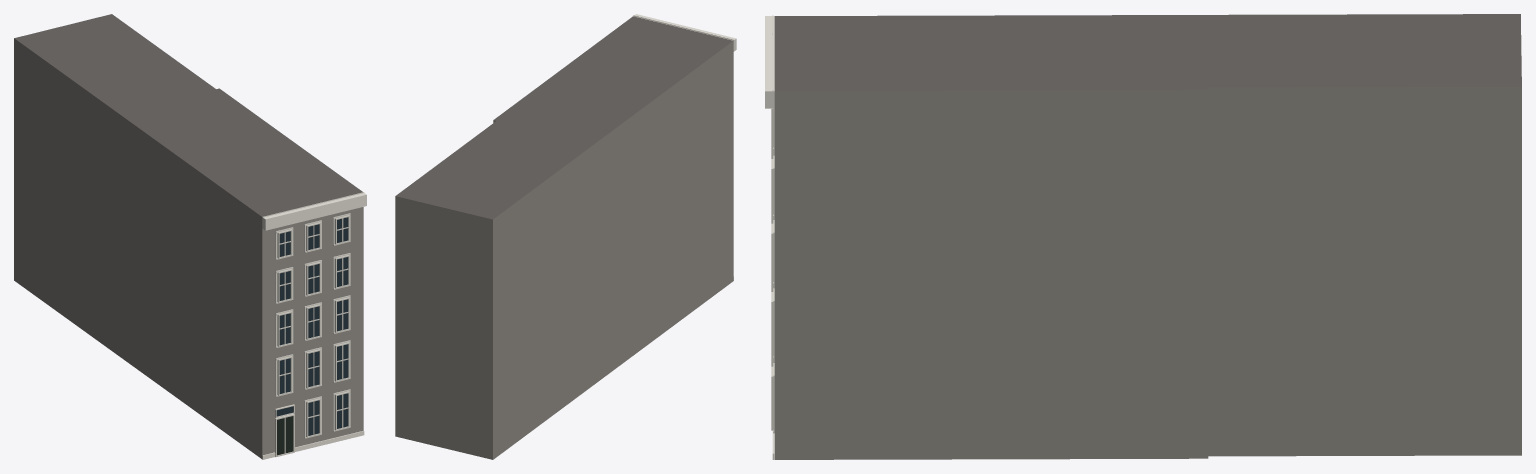
3 views of the same model, side by side, from view 1: azimuth 30°, elevation 25°; view 2: azimuth 150°, elevation 25°; view 3: azimuth 270°, elevation 25° (orthographic). The views are drawn at different scales.
Parts seen in each view (by area): view 1: spec-0363100012167644; view 2: spec-0363100012167644; view 3: spec-0363100012167644.
Boxes of the visible parts, bbox=[...] form: spec-0363100012167644: bbox=[14, 14, 366, 459]; spec-0363100012167644: bbox=[395, 14, 736, 459]; spec-0363100012167644: bbox=[765, 14, 1521, 459].
Bounding box in the file's own units: 7.69 × 17.14 × 31.81.
